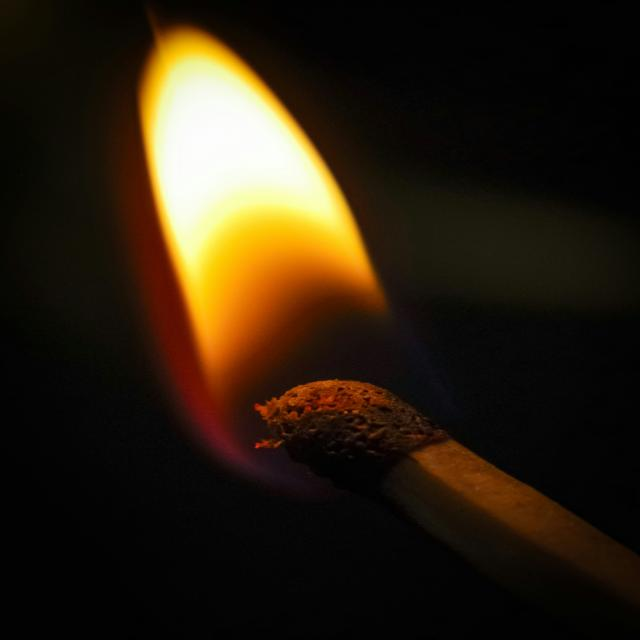fire: (112, 9, 385, 478)
